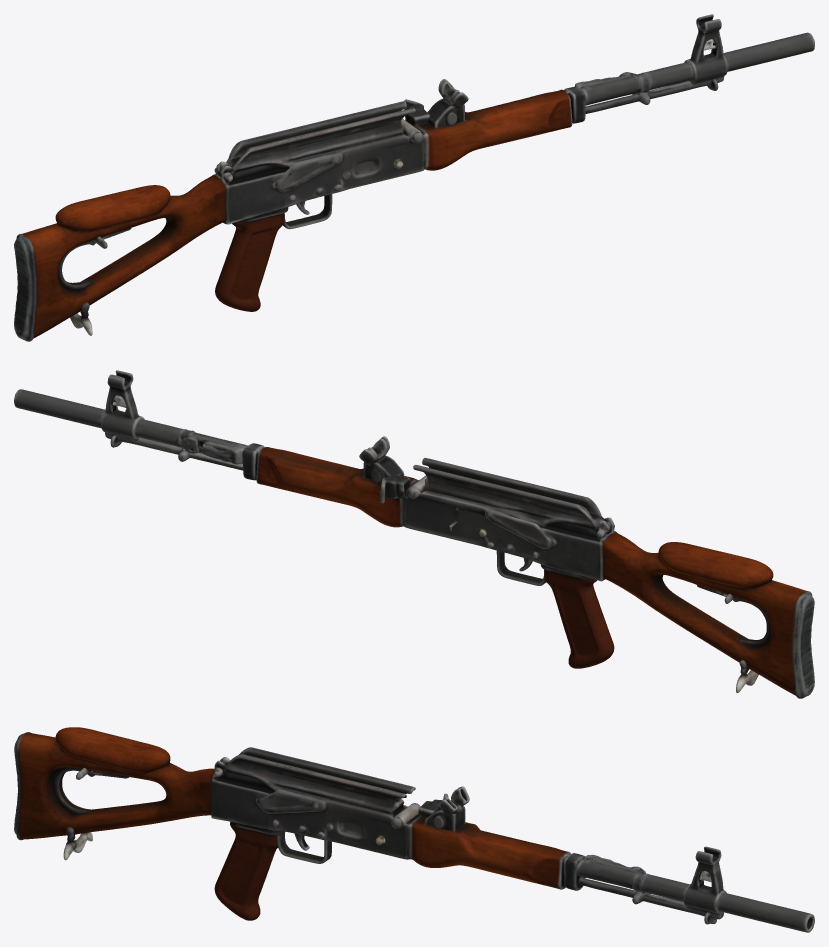
File: body.glb
3 views of the same model, one above another, from view 1: azimuth 30°, elevation 25°; view 2: azimuth 150°, elevation 25°; view 3: azimuth 330°, elevation 25° (orthographic).
Parts seen in each view (by area): view 1: geometry_0; view 2: geometry_0; view 3: geometry_0.
Boxes of the visible parts, <box> form: geometry_0: <box>14,14,814,341</box>; geometry_0: <box>14,370,814,698</box>; geometry_0: <box>14,727,814,932</box>.
Size of the model in its own units: 1 by 0.2187 by 0.0785.
Materials: 1 (1 with a texture image).
